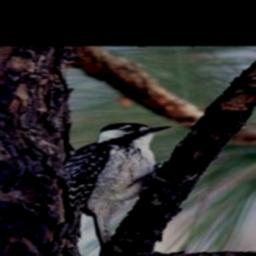Woodpecker: (62, 121, 176, 248)
